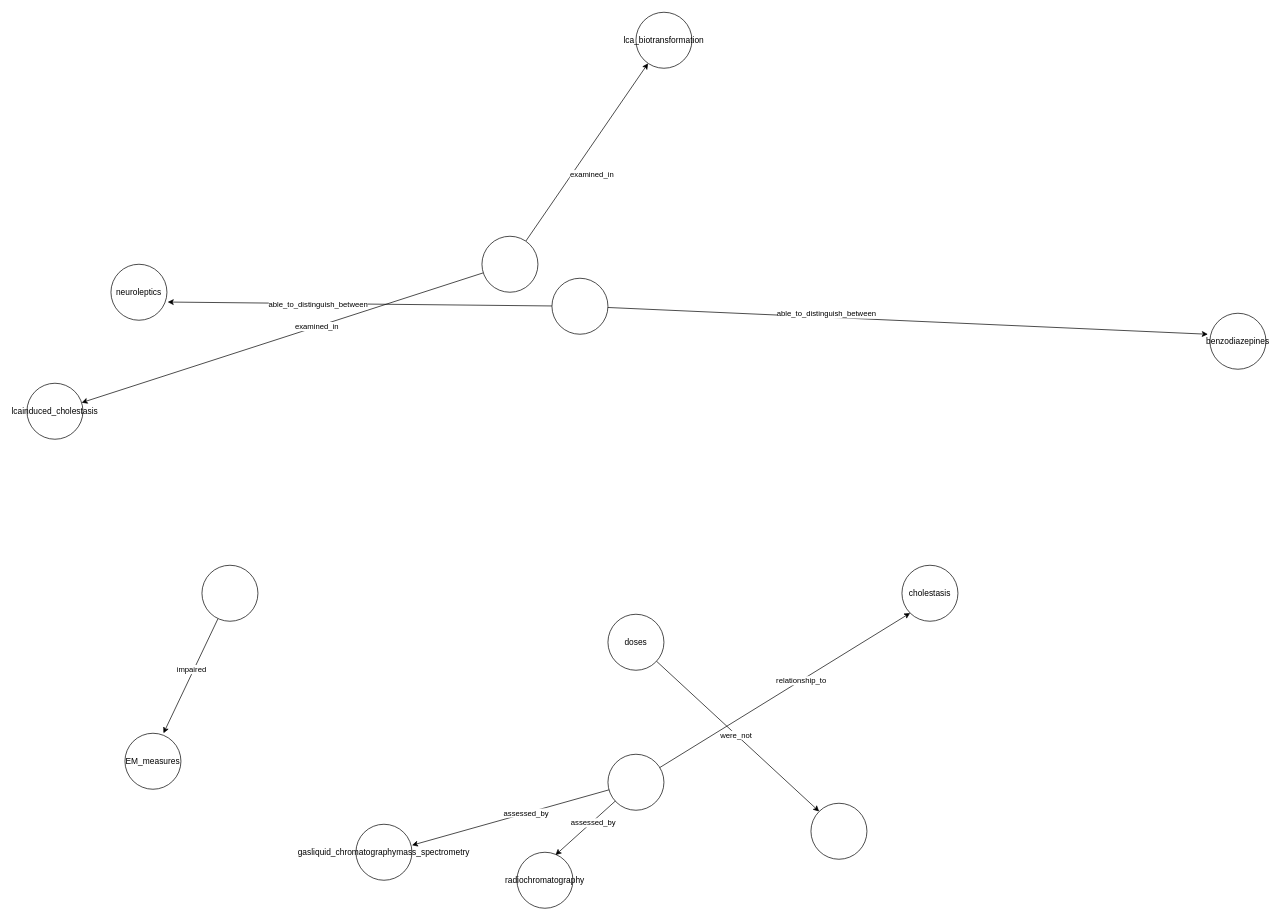
The diagram is 1282 pixels wide and 921 high, and some of its shapes have lost their labels. The centre of each missing label's shape, as x and y in pixels:
available_test: the point at 579,306
clinically_equivalent: the point at 838,831
drugs: the point at 229,593
lithocholic_acid_lca_metabolism: the point at 635,782
role_of_the_perivenous_zone: the point at 509,264
